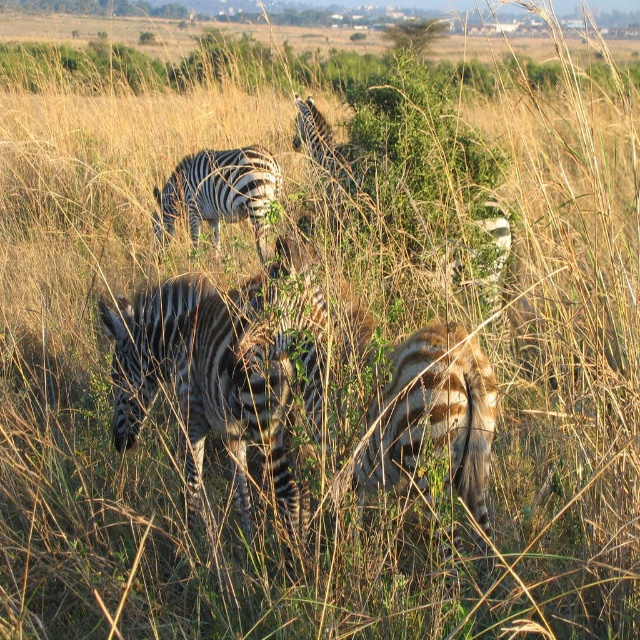Zebra: (96, 94, 510, 578)
